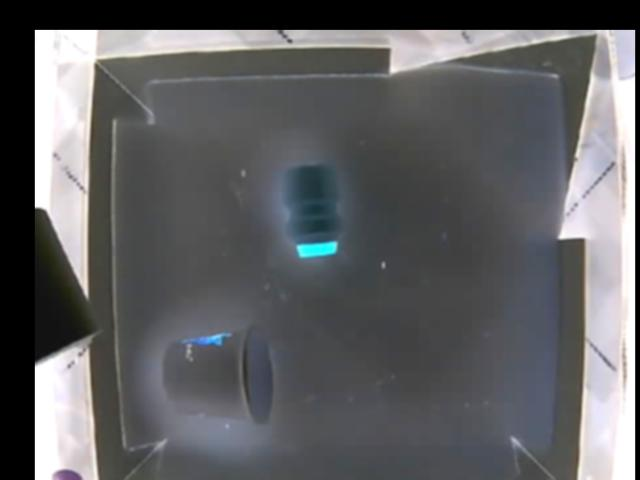Bottle: (276, 161, 344, 255)
Cup: (157, 326, 283, 427)
